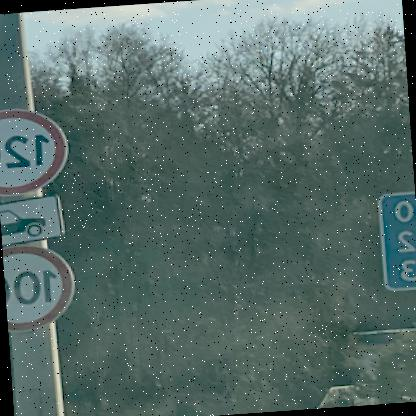speedlimit: (3, 240, 78, 332), (0, 105, 72, 197)
